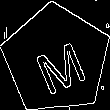M_NW: (26, 27, 87, 92)
